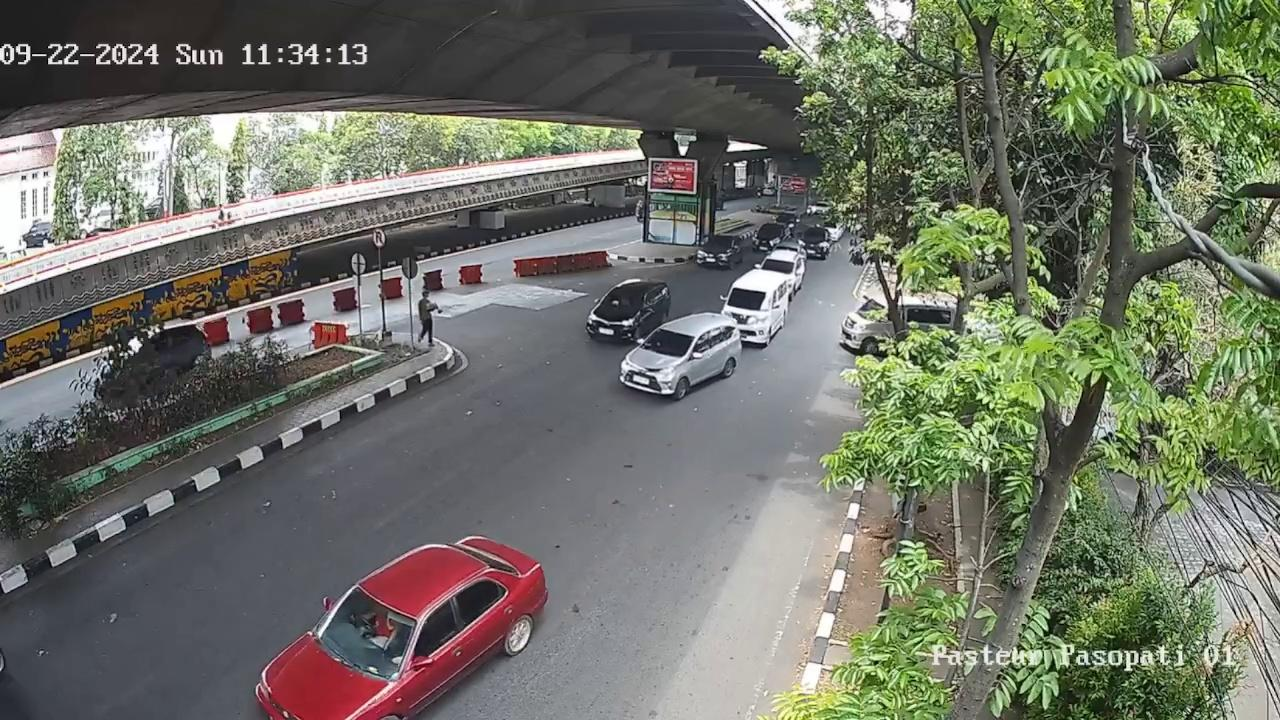tidak-pakai: (362, 603, 398, 646)
windshield: (316, 585, 422, 682), (639, 326, 692, 357), (599, 288, 642, 313), (725, 288, 770, 311), (761, 259, 793, 274)
